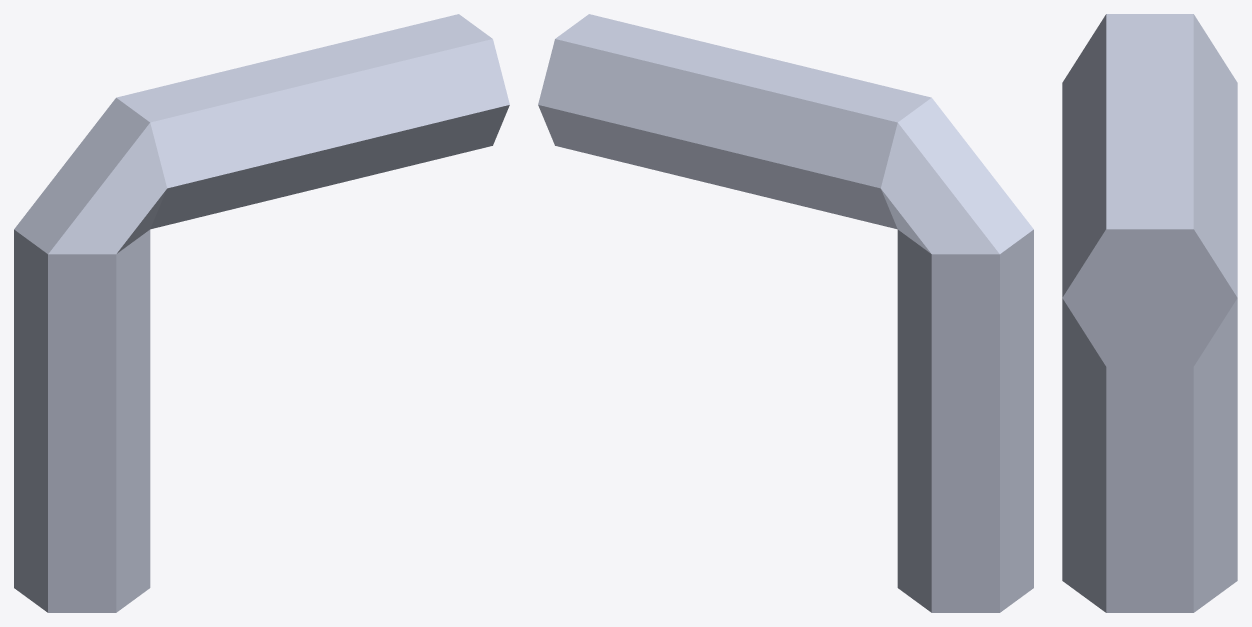
3 renders of one model, left to right at view 1: azimuth 30°, elevation 25°; view 2: azimuth 150°, elevation 25°; view 3: azimuth 270°, elevation 25°, orthographic. The views are drawn at different scales.
Visible parts, largest first — view 1: object_076; view 2: object_076; view 3: object_076.
Boxes of the visible parts, <box> form: object_076: <box>14,14,509,612</box>; object_076: <box>538,14,1033,612</box>; object_076: <box>1062,14,1237,612</box>.
Bounding box in the file's own units: 0.3245 × 0.3245 × 0.086.
